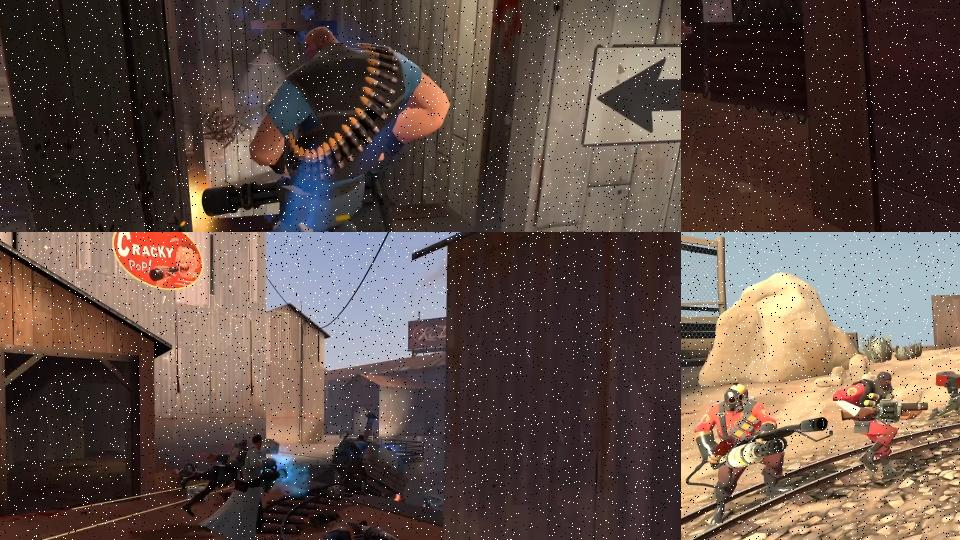Enemy: (200, 22, 453, 232), (693, 380, 831, 525), (832, 371, 932, 481), (197, 432, 288, 540), (315, 519, 446, 540), (342, 435, 372, 497)
